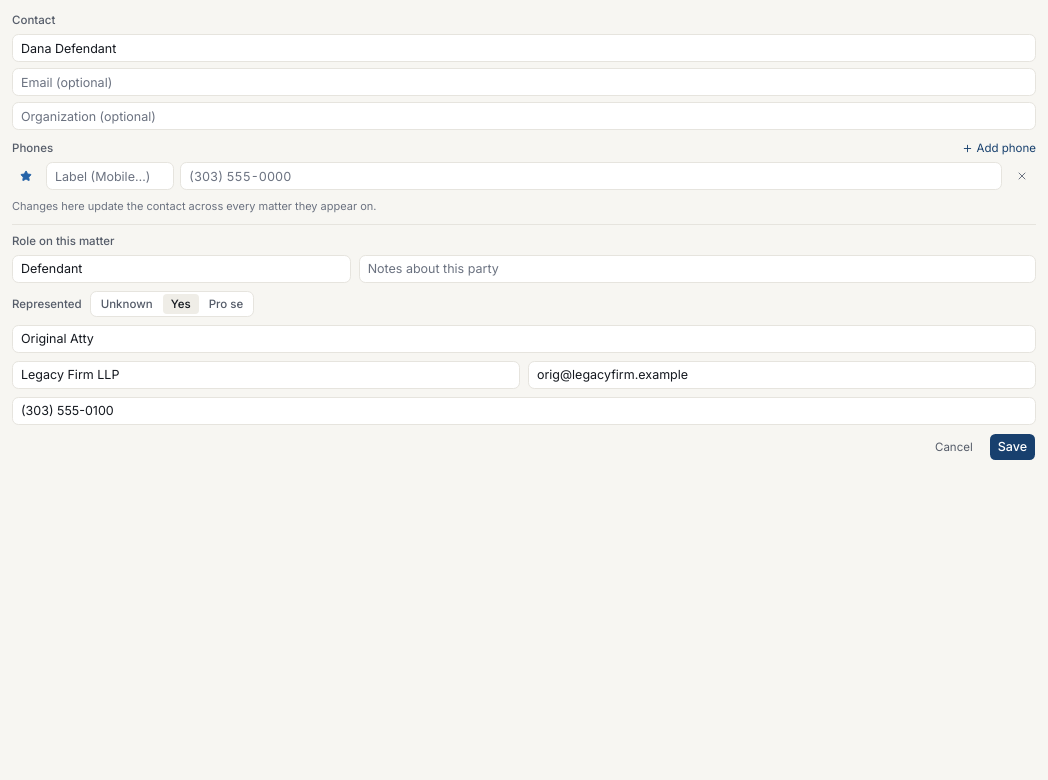
Test case: PartyEditForm — representation picker undo › clearing an accidental pick restores the original rep fields, not blanks
Replace the text in the dropdown with placeholder "Attorney name — type to search or create" with "Steele" at (524, 339), box [12,325,1036,353]
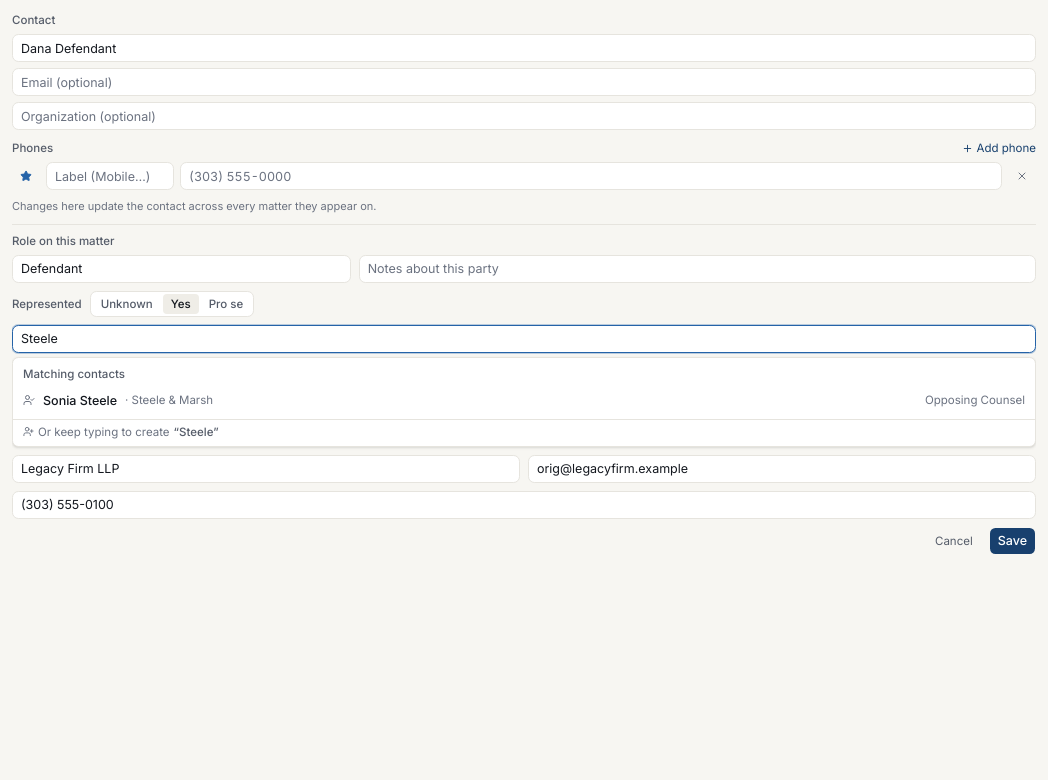
Click the option "Sonia Steele · Steele & Marsh opposing counsel".
click(80, 400)  # box [23,393,1025,408]
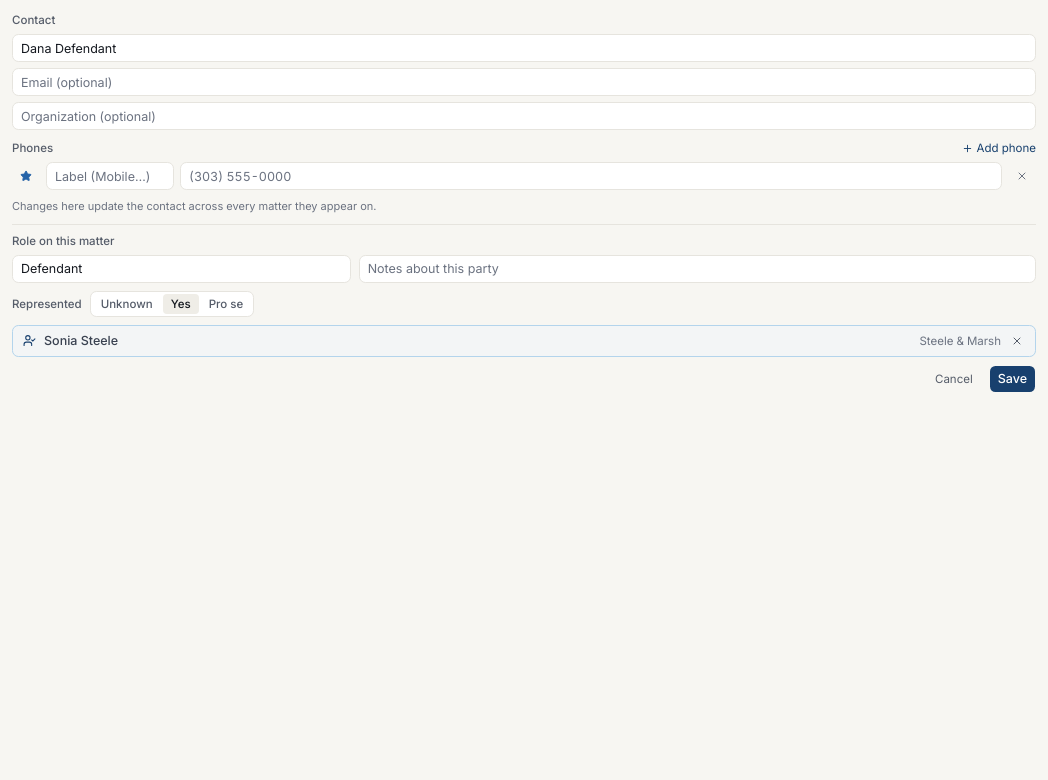
Click the button named "unlink representing contact".
click(1017, 341)  # box [1009,333,1025,349]
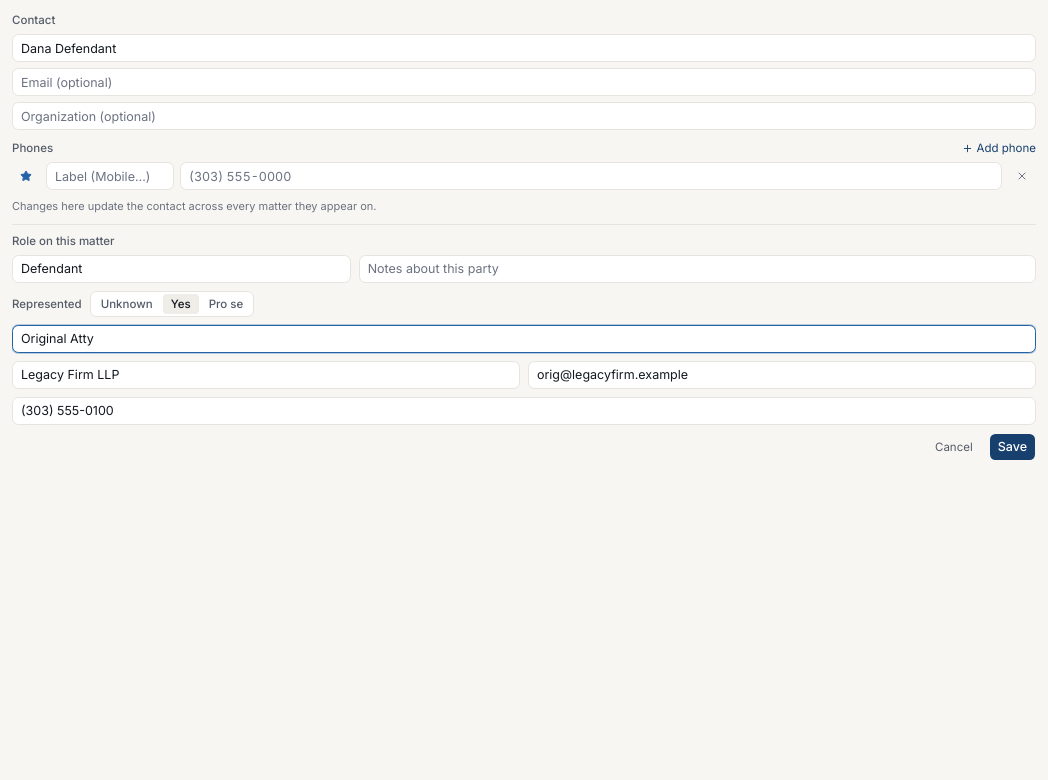
Expected: the dropdown with placeholder "Attorney name — type to search or create" holds "Original Atty", [12,325,1036,353]
